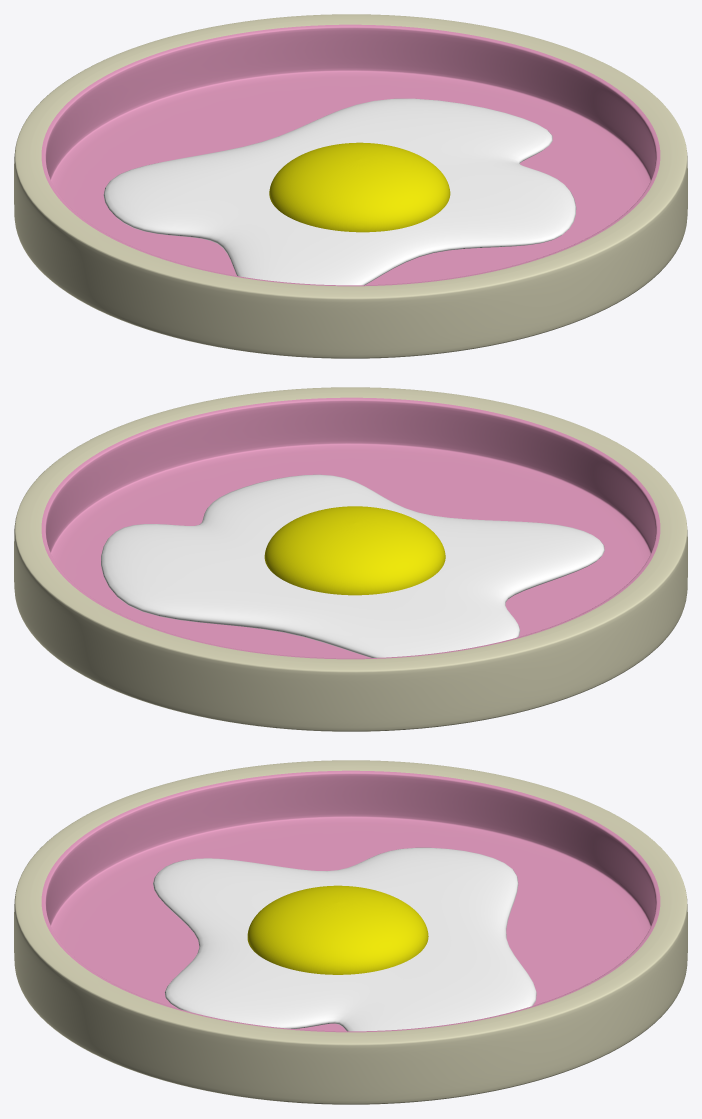
Rendered from huevofbx.fbx.
3 views of the same model, one above another, from view 1: azimuth 30°, elevation 25°; view 2: azimuth 150°, elevation 25°; view 3: azimuth 270°, elevation 25° (orthographic).
Visible parts, largest first — view 1: Cilindro.003, Plano; view 2: Cilindro.003, Plano; view 3: Cilindro.003, Plano.
Boxes of the visible parts, box(x1,y1,x2,y2) form: Cilindro.003: box(14, 14, 687, 358); Plano: box(103, 98, 576, 285); Cilindro.003: box(14, 387, 687, 731); Plano: box(101, 474, 604, 657); Cilindro.003: box(14, 760, 687, 1104); Plano: box(153, 847, 536, 1031).
Size of the model in its own units: 88.25 by 9.08 by 88.25.
